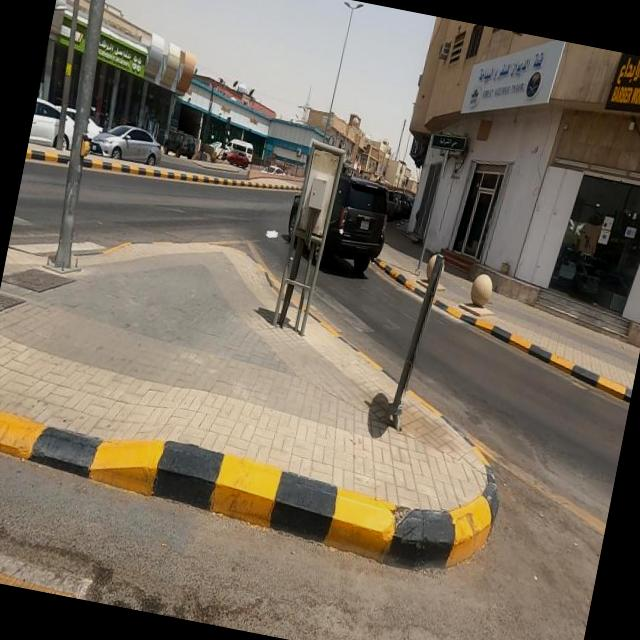debris: (233, 196, 304, 270)
